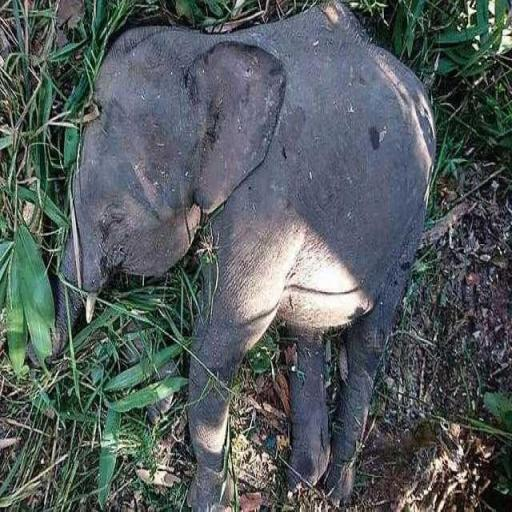Elephant: (29, 0, 437, 510)
